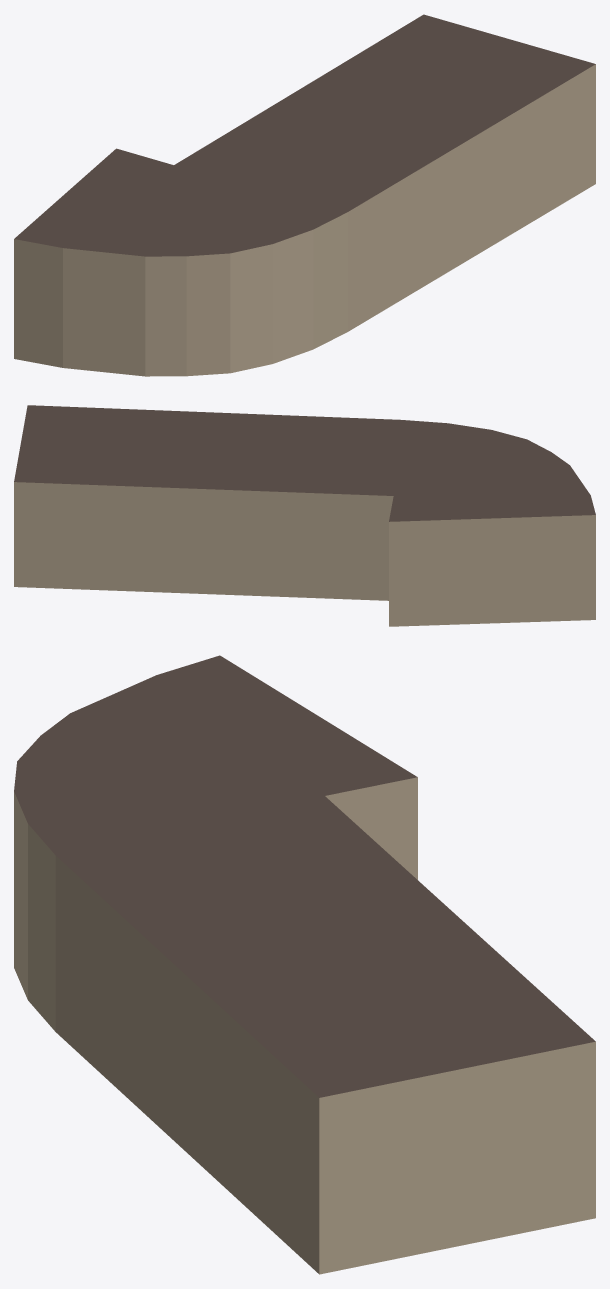
3 views of the same model, one above another, from view 1: azimuth 30°, elevation 25°; view 2: azimuth 150°, elevation 25°; view 3: azimuth 270°, elevation 25° (orthographic). The views are drawn at different scales.
Parts seen in each view (by area): view 1: HP-w1197336808; view 2: HP-w1197336808; view 3: HP-w1197336808.
Part boxes in pixels (left/top/right/bottom): HP-w1197336808: left=14, top=14, right=595, bottom=376; HP-w1197336808: left=14, top=405, right=595, bottom=626; HP-w1197336808: left=14, top=655, right=595, bottom=1274.
Bounding box in the file's own units: 48.36 × 9 × 26.88.
